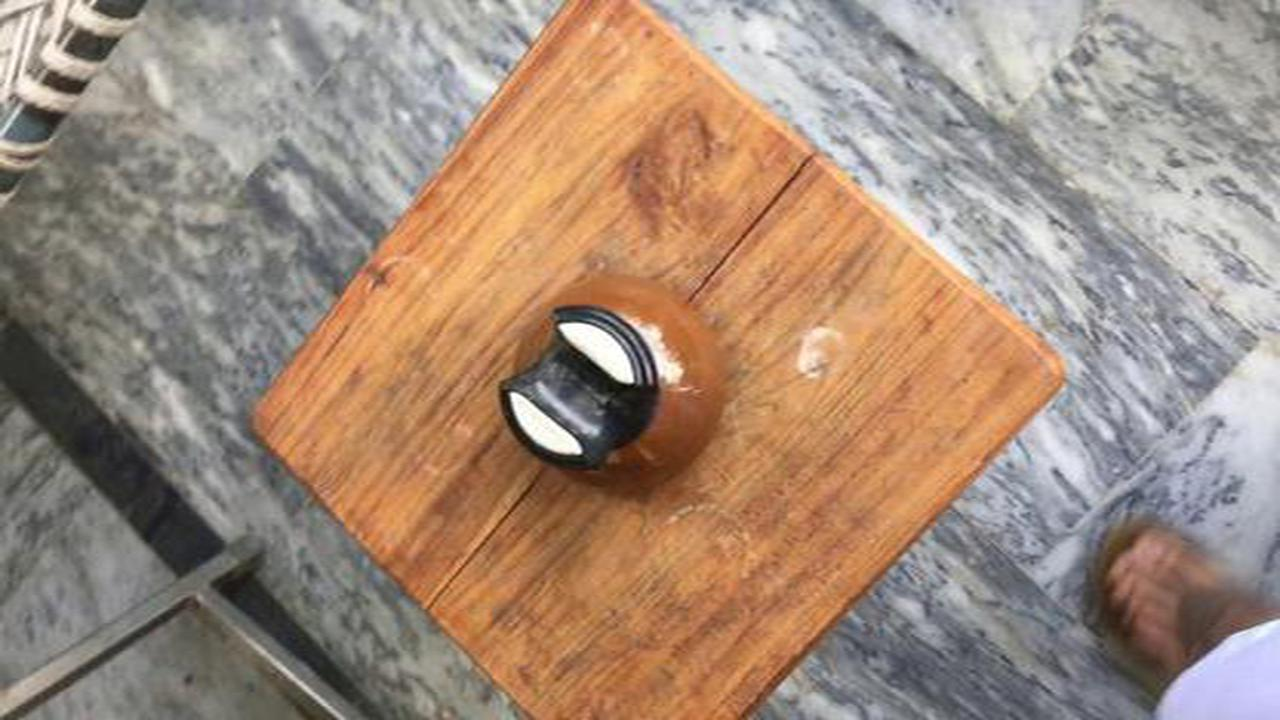insulator_pin: (474, 272, 751, 502)
